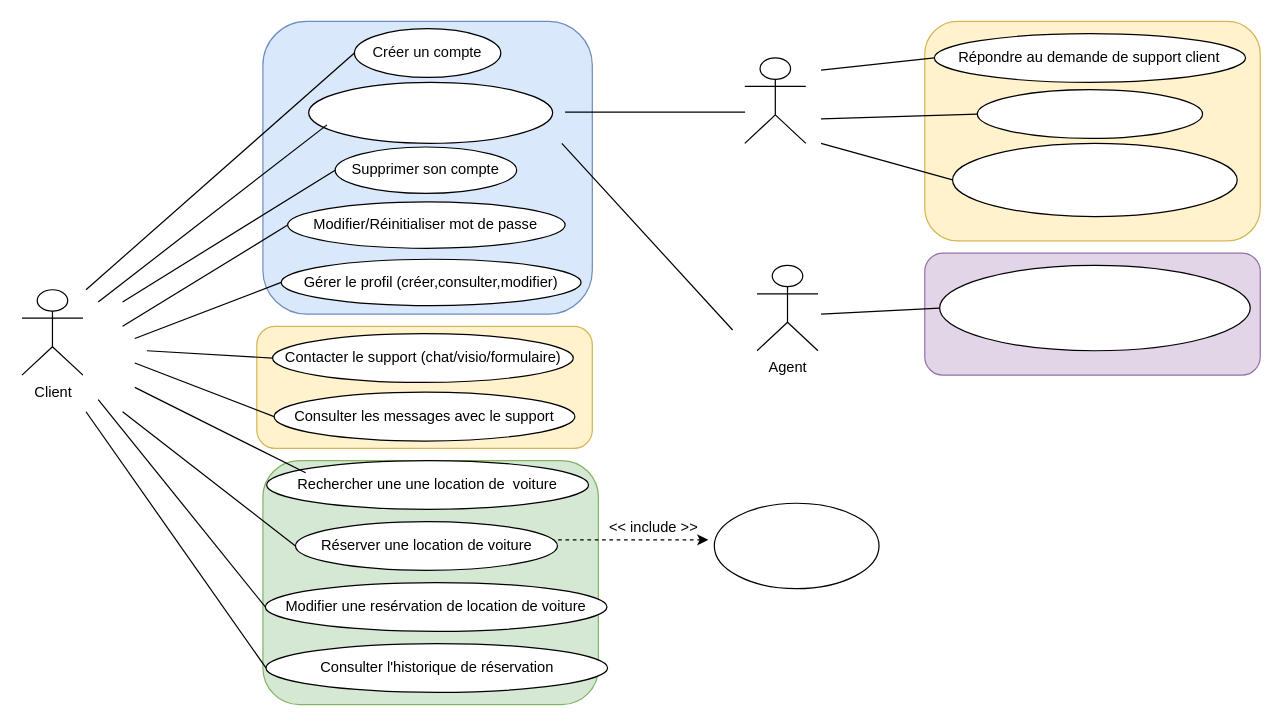
This 1281x726 diagram has some shape labels left out. Each missing label, with the centre of its shape:
Consulter les demandes: (1089,113)
Effectuer le paiement: (796,545)
Lancer une viso de support avec le client: (1094,179)
Opération CRUD standard de tous les domaines: (1094,307)
Se connecter / Se déconnecter: (430,112)
Service support: (775,100)
